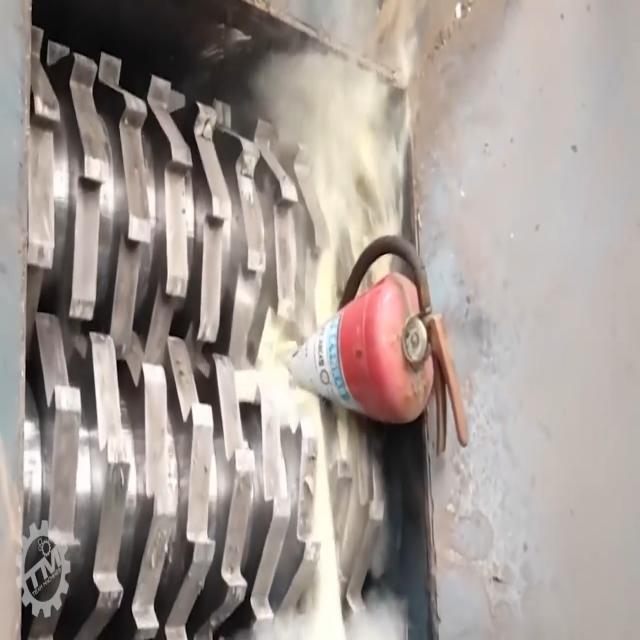Broyeur: (18, 0, 448, 640)
